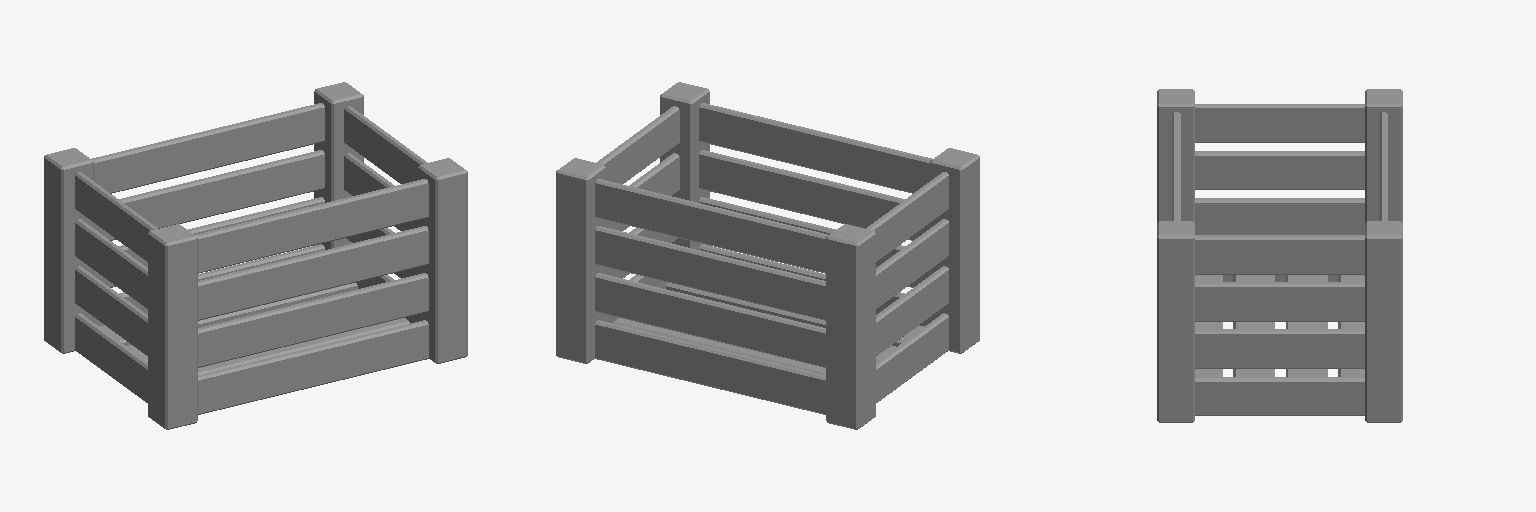
The model's file is WoodenCrate02.obj.
3 views of the same model, side by side, from view 1: azimuth 30°, elevation 25°; view 2: azimuth 150°, elevation 25°; view 3: azimuth 270°, elevation 25° (orthographic).
Visible parts, largest first — view 1: Crate_Cube; view 2: Crate_Cube; view 3: Crate_Cube.
Part boxes in pixels (bbox=[...]): Crate_Cube: bbox=[44, 82, 467, 429]; Crate_Cube: bbox=[556, 82, 979, 429]; Crate_Cube: bbox=[1157, 89, 1402, 422].
Size of the model in its own units: 6.01 by 3.55 by 4.23.